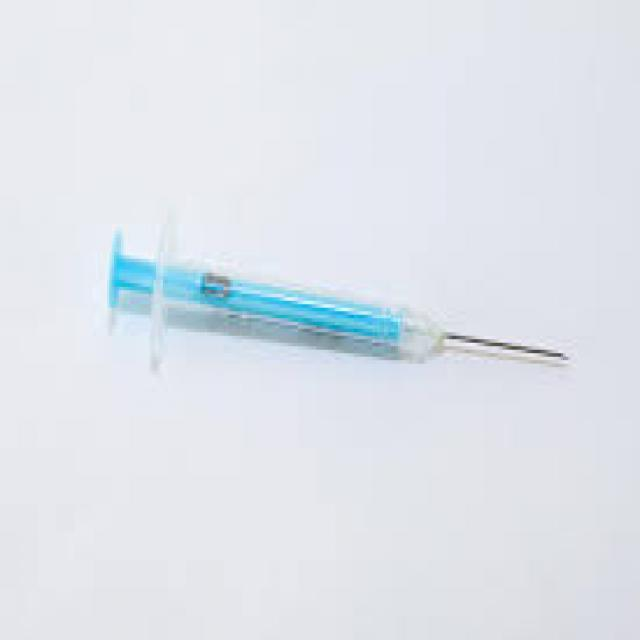syringe: (77, 207, 597, 430)
